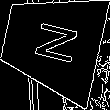N_W: (25, 18, 79, 69)
